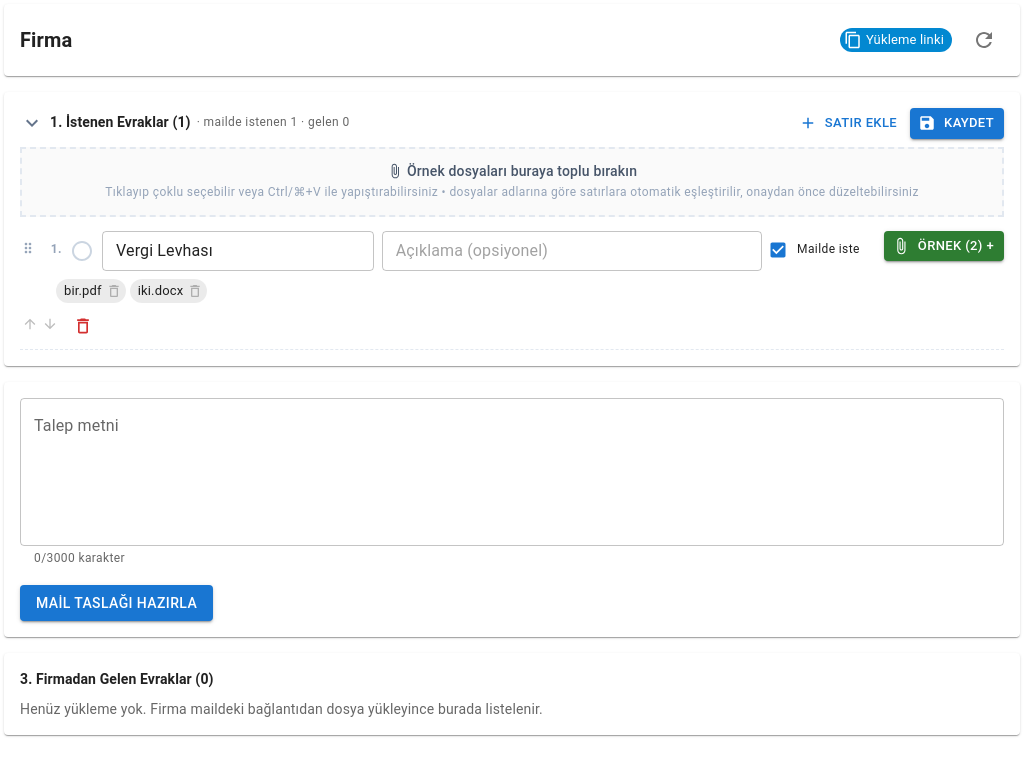
Test: örnek kaldırma yalnız seçilen dosyayı listeden çıkarır
Step 1. Click the icon named "bir.pdf örneğini kaldır" → click(114, 291), box [106,283,122,299]
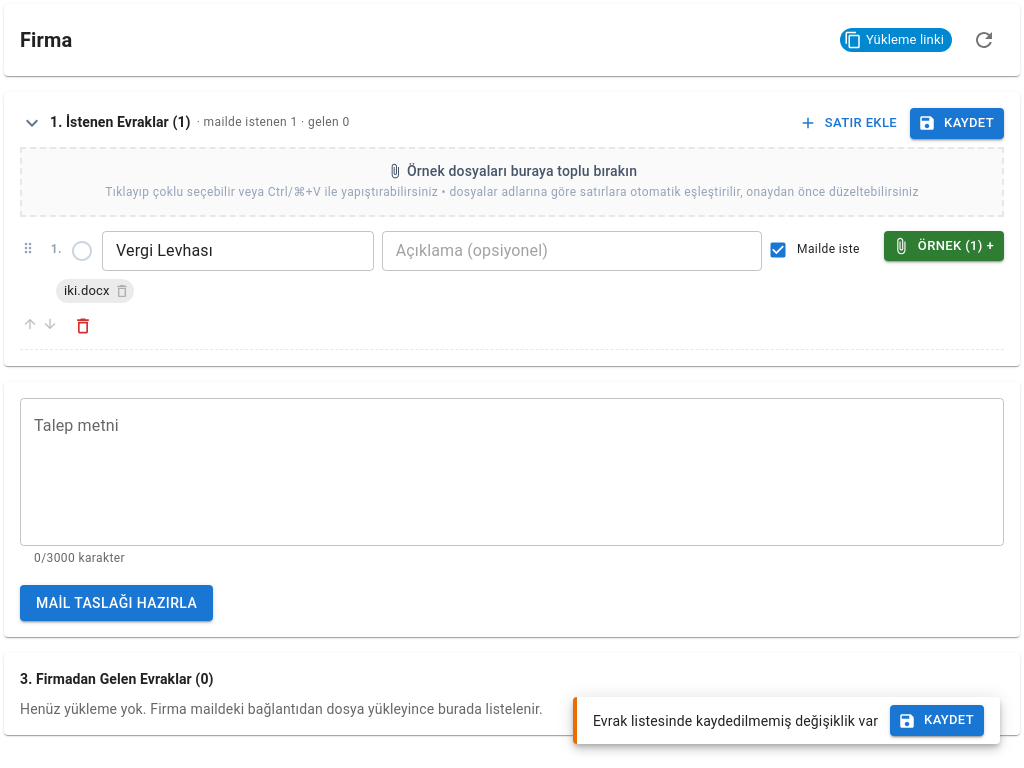
Expected: the text "iki.docx" is shown, [64,283,110,298]
Now the button "bir.pdf" is gone
Step 2. Click the 1st button "Kaydet" → click(957, 123), box [910,108,1004,139]
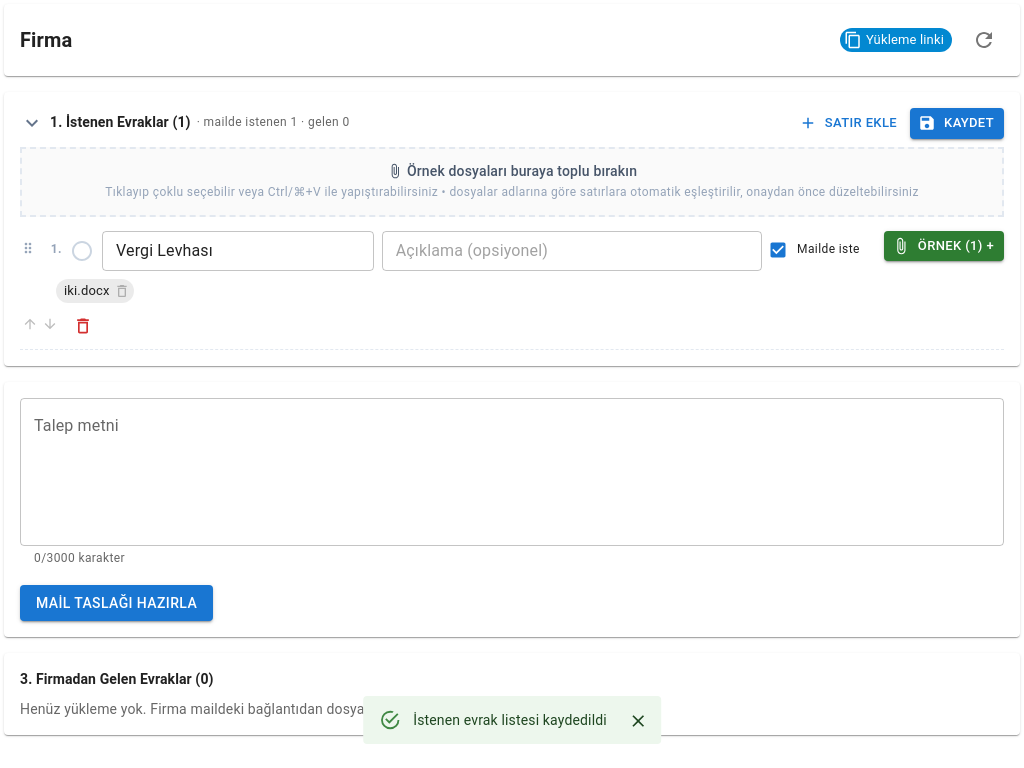
Now the text "İstenen evrak listesi kaydedildi" is shown, box [413,712,607,728]
